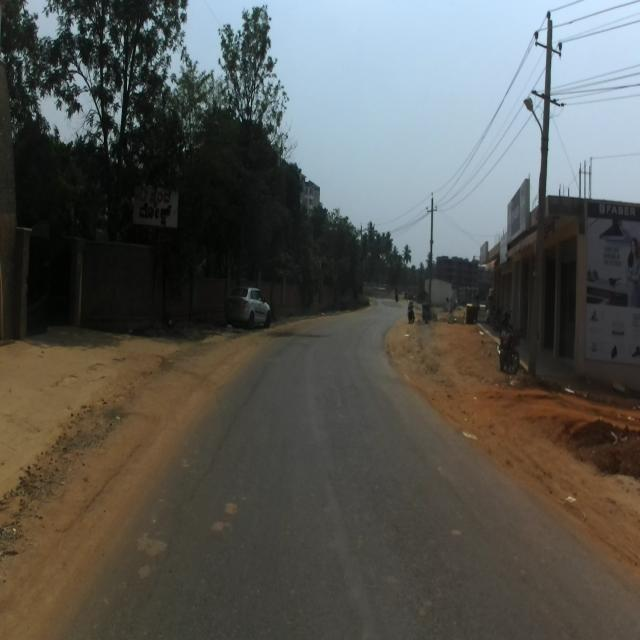electric pole ahead at: (522, 5, 568, 388)
